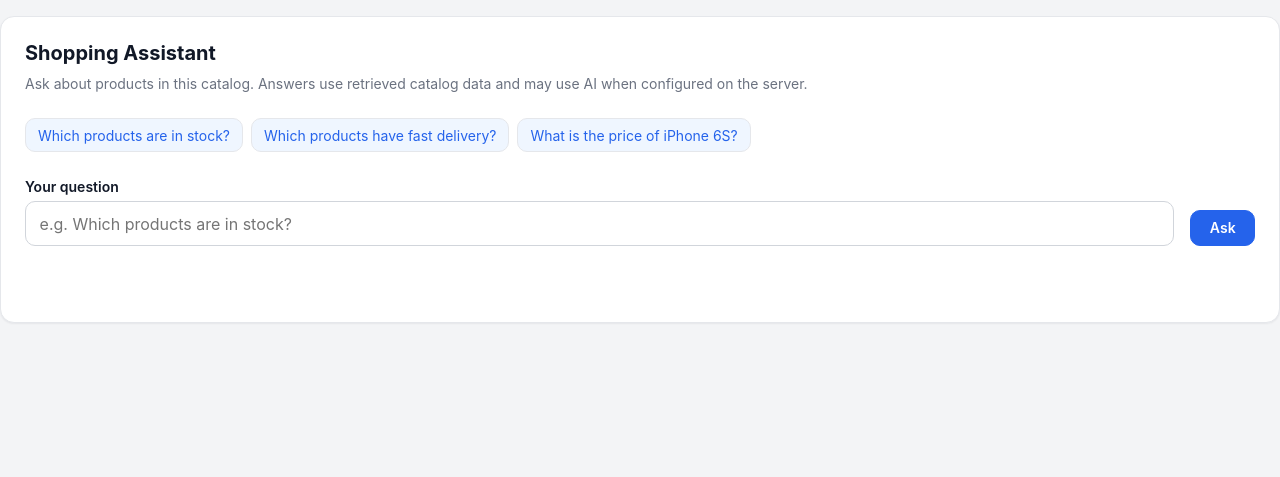
Scenario: ShoppingAssistant › shows catalog fallback label
Type "camera quality" into the field labelled "Your question".
click(600, 224); type("camera quality")  # box 25,201 -> 1174,246
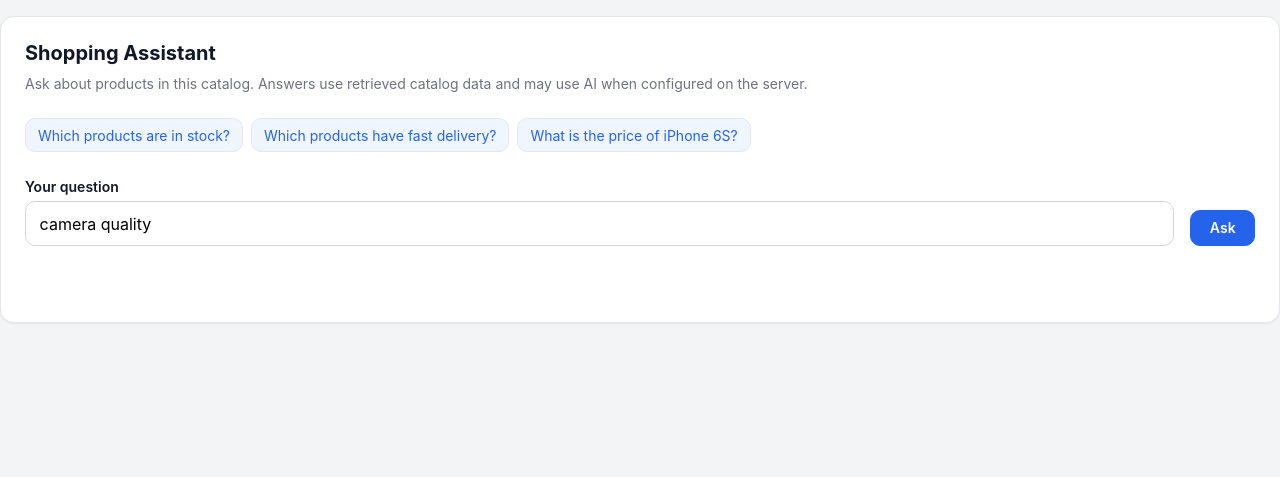
Click the button "Ask".
click(1223, 228)  # box 1190,210 -> 1255,246
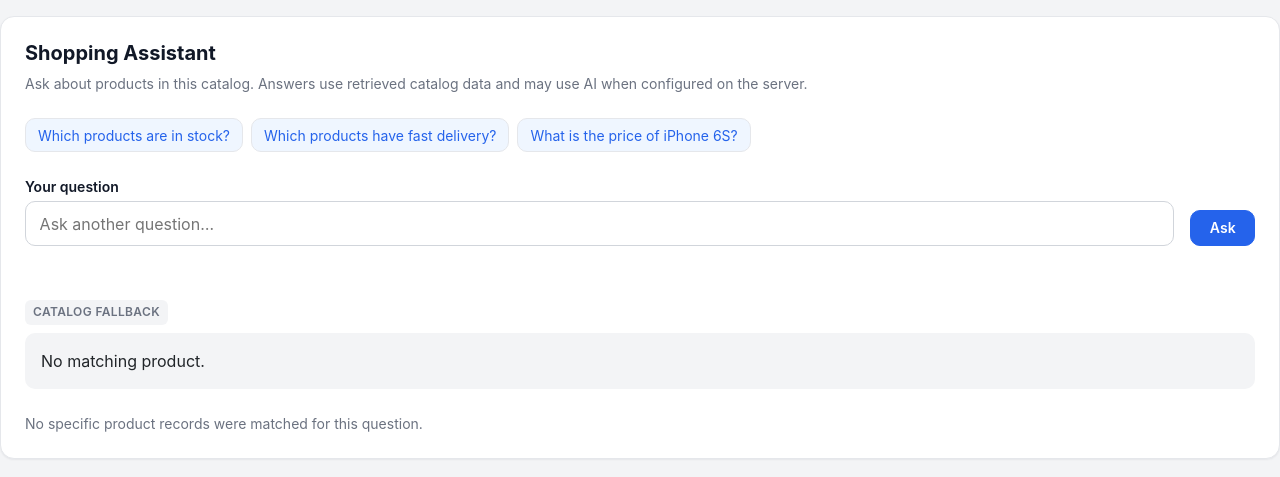
Check: the text "Catalog fallback" is shown, box 25,300 -> 168,325
